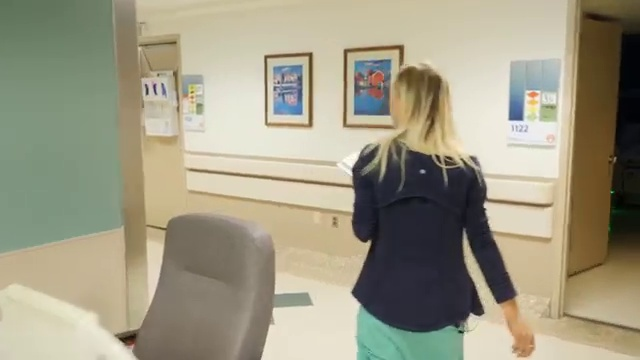mask: (379, 56, 476, 153)
